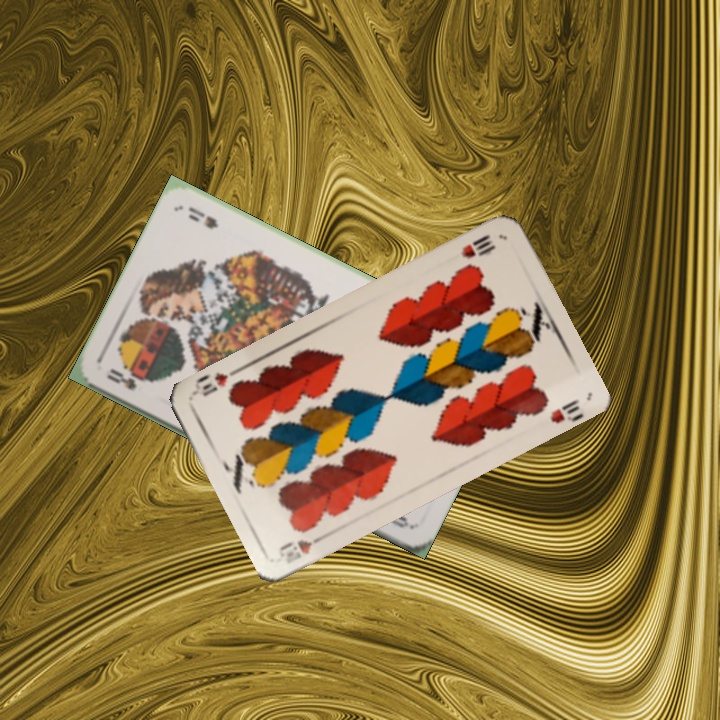H10: (275, 529, 330, 567), (457, 230, 498, 261)
SO: (102, 364, 148, 393)
